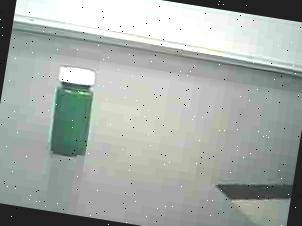Bottle C: (34, 56, 111, 168)
